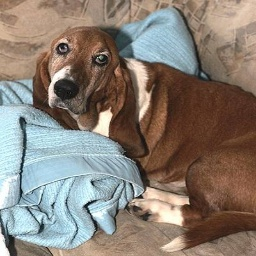dog: (29, 20, 256, 243)
